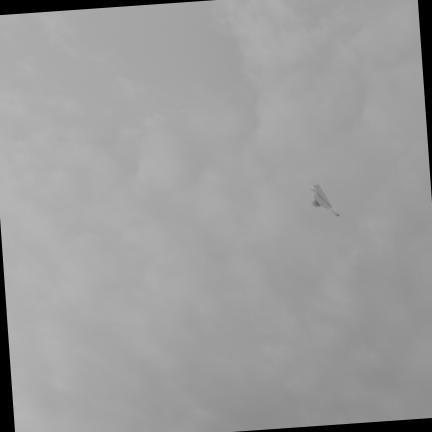Shahed: (310, 176, 338, 215)
